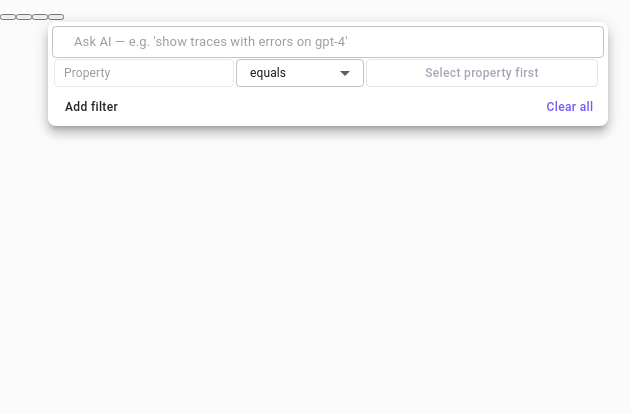
Scenario: voice-call property search aliases › keeps partial system results visibly loading until matching attributes arrive
Click the button "Property" at [144, 73], box [54, 59, 234, 87]
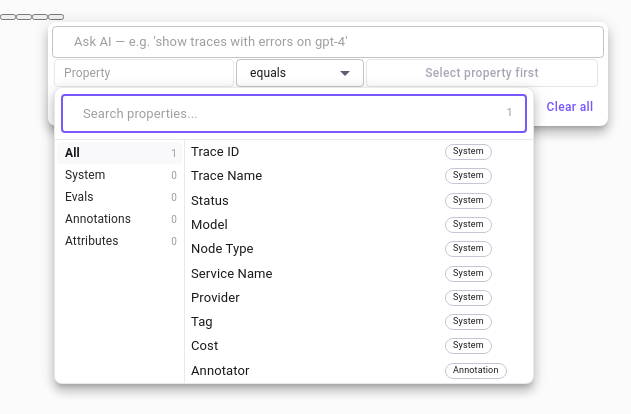
Type "cost" into the field with placeholder "Search properties..." at [291, 114], box [83, 94, 498, 133]
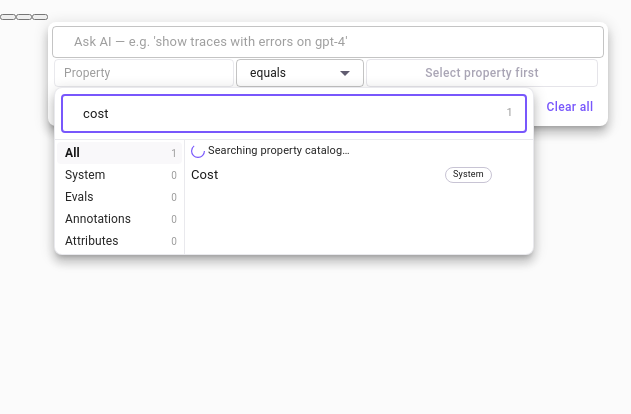
Expected: the text "Cost" is shown, [191, 167, 218, 182]
Expected: the message "Searching property catalog" is shown, [191, 144, 350, 158]
Expected: the text "Searching property catalog…" is shown, [208, 143, 350, 160]
